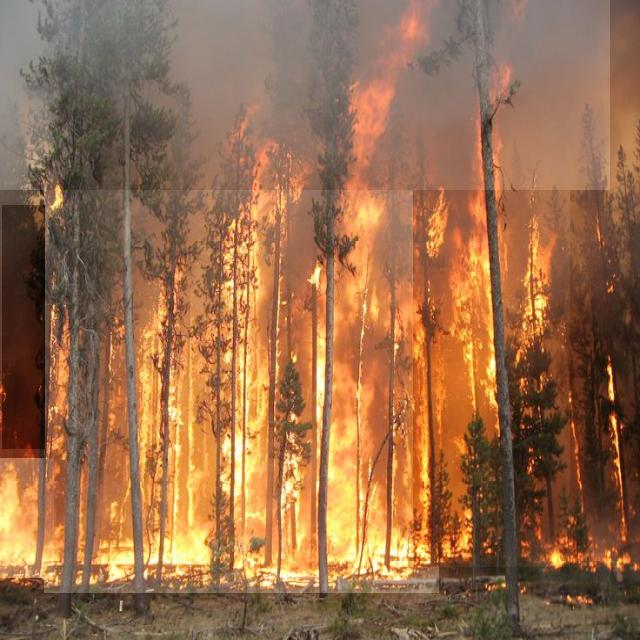Fire: (44, 103, 439, 593), (413, 103, 570, 567), (0, 458, 54, 578)
Smoke: (0, 0, 610, 190), (2, 205, 45, 449)
